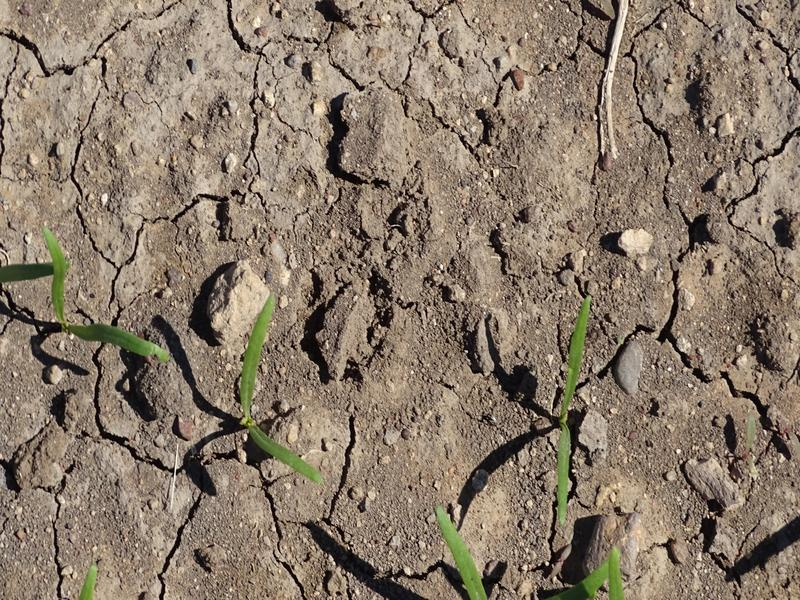Espinaca: (40, 219, 176, 365), (228, 301, 321, 484), (557, 299, 583, 507), (433, 503, 488, 597), (563, 545, 627, 600)
